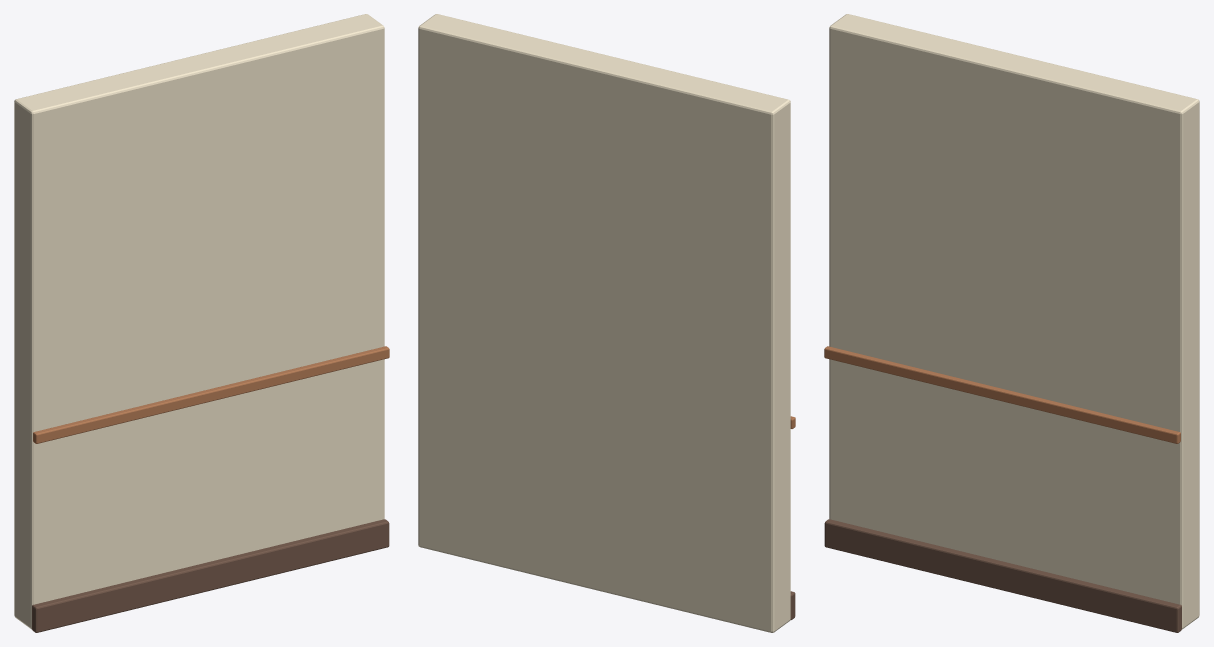
The model's file is Hotel_Wall_2m.fbx.
The picture shows the model from 3 angles, left to right: view 1: azimuth 30°, elevation 25°; view 2: azimuth 150°, elevation 25°; view 3: azimuth 330°, elevation 25°; orthographic projection.
Visible parts, largest first — view 1: Hotel_Wall_2m_Mesh; view 2: Hotel_Wall_2m_Mesh; view 3: Hotel_Wall_2m_Mesh.
Boxes of the visible parts, <box> form: Hotel_Wall_2m_Mesh: <box>14,14,389,632</box>; Hotel_Wall_2m_Mesh: <box>418,14,795,632</box>; Hotel_Wall_2m_Mesh: <box>824,14,1199,632</box>.
Bounding box in the file's own units: 2 × 2.8 × 0.2225.
1 material, 1 textured.
